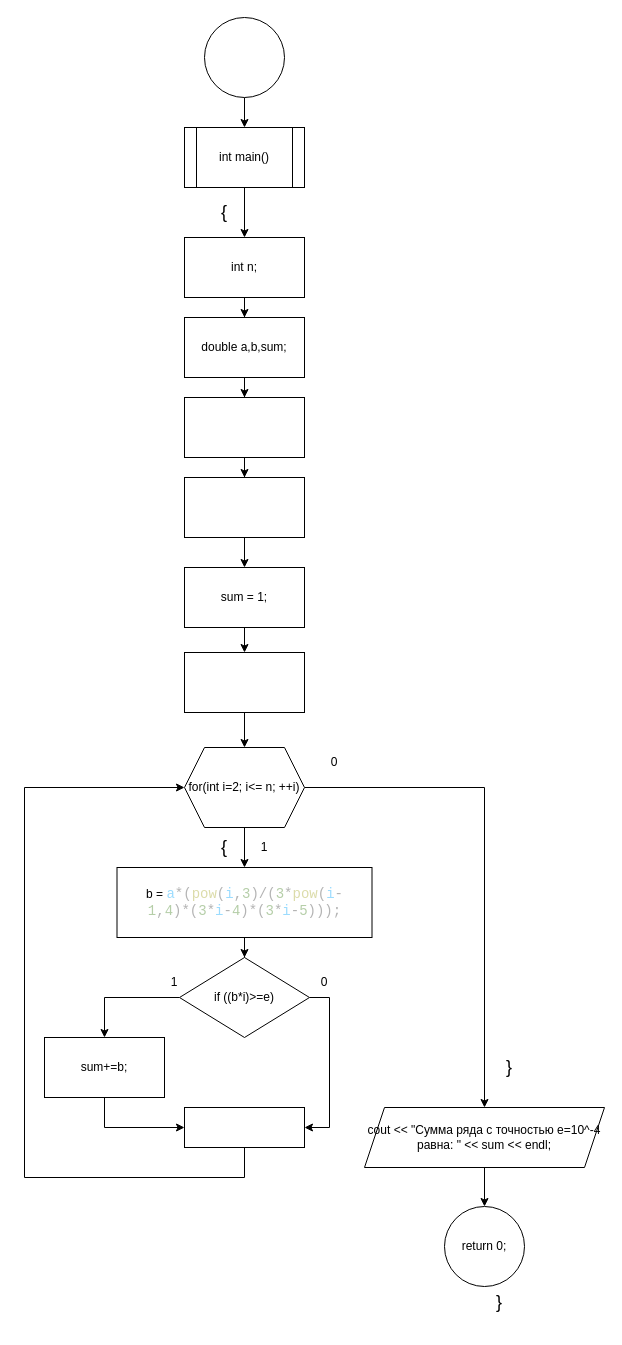
This 622x1345 diagram has some shape labels left out. The shapes that lost their labels are listed below. From the top down, each one's centre as x and y in pixels, then its label:
At point 244,57: "начало".
At point 244,427: "double e = pow(10,-4);".
At point 244,507: "n = 10;".
At point 244,682: "a = 1;".
At point 244,1127: "a = b;".
